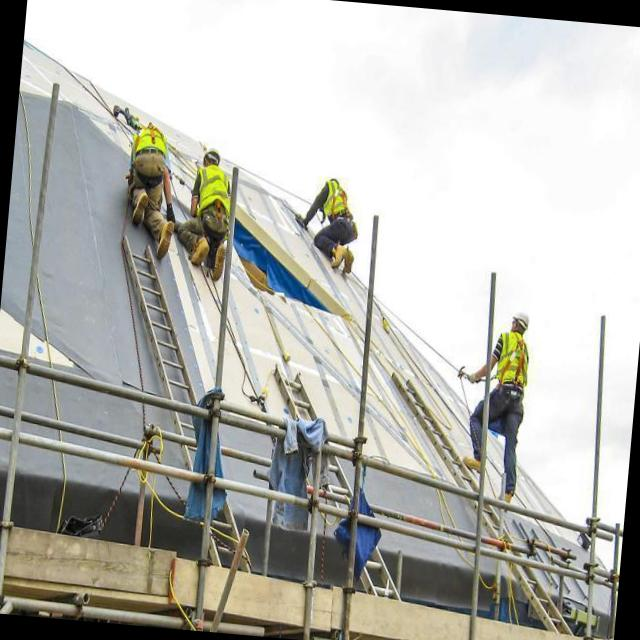hard_hat: (200, 142, 225, 166), (513, 308, 533, 328)
safety_vest: (490, 332, 534, 390), (190, 166, 237, 218), (128, 127, 172, 160), (315, 182, 355, 218)
vehicle: (441, 287, 555, 517), (108, 114, 187, 278), (284, 150, 376, 285), (177, 130, 250, 285)
work_boots: (153, 220, 174, 262), (187, 234, 210, 268), (130, 192, 150, 226), (212, 246, 229, 280), (463, 451, 486, 475), (341, 250, 358, 275), (329, 247, 346, 270)
